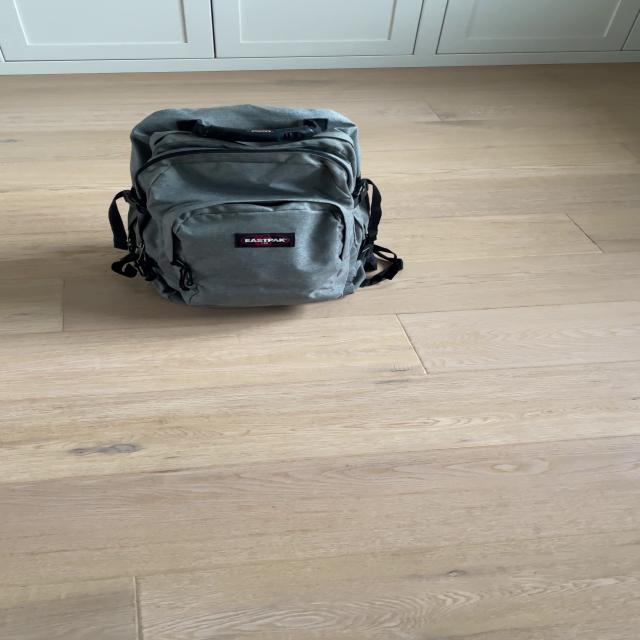backpack: (97, 94, 404, 316)
